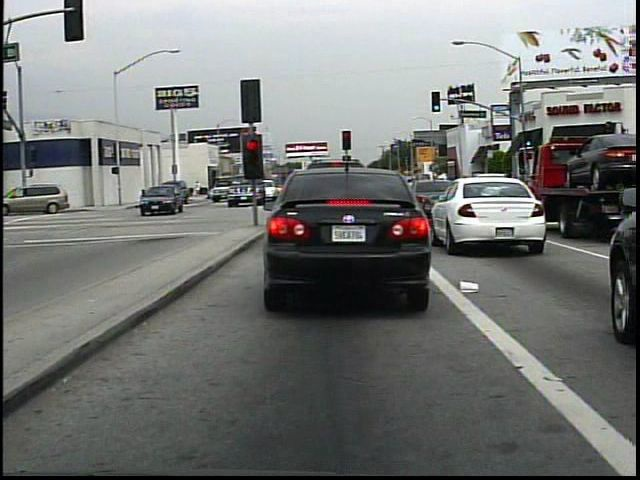person: (192, 177, 204, 200)
